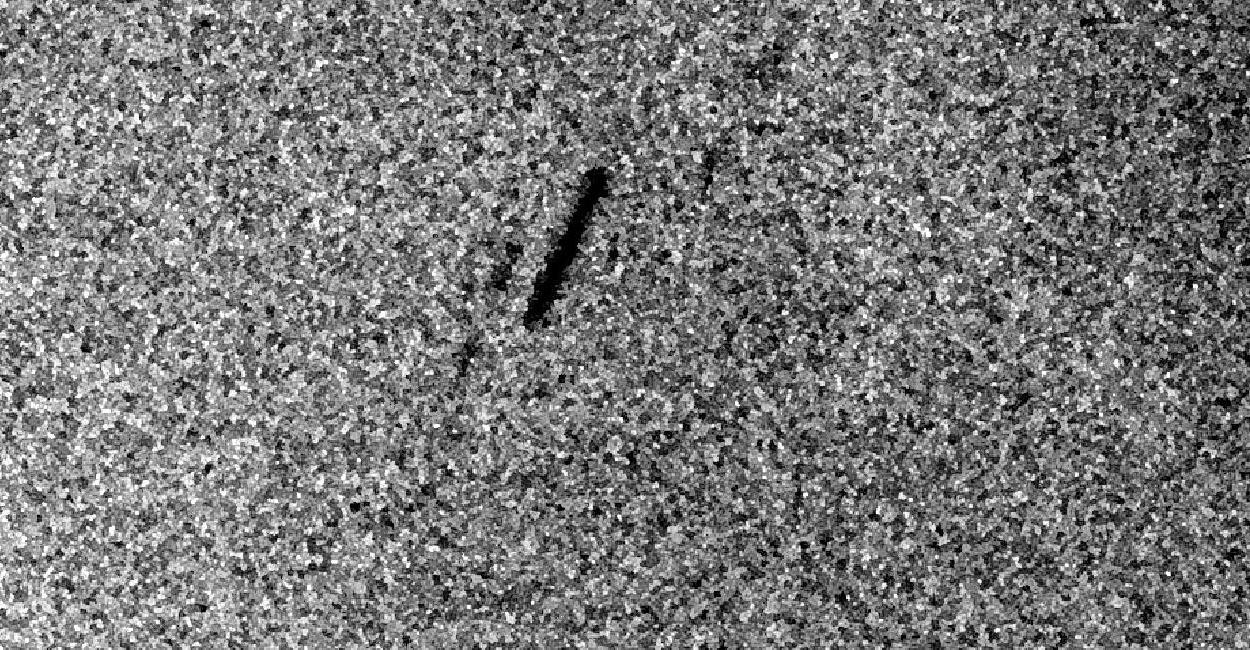Oil Spill: (520, 166, 612, 324)
